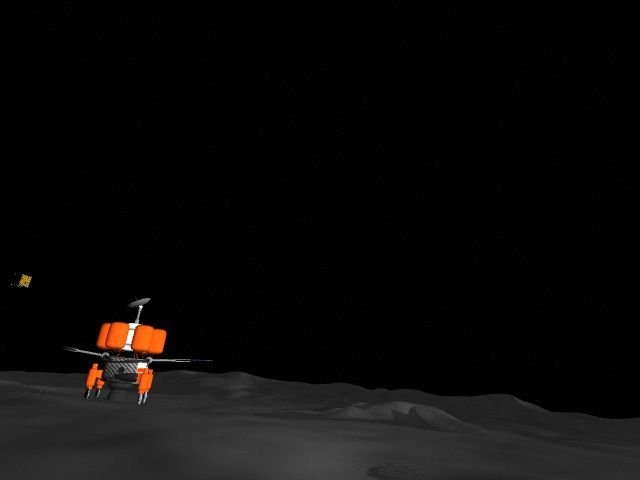cubesat: (8, 269, 34, 295)
